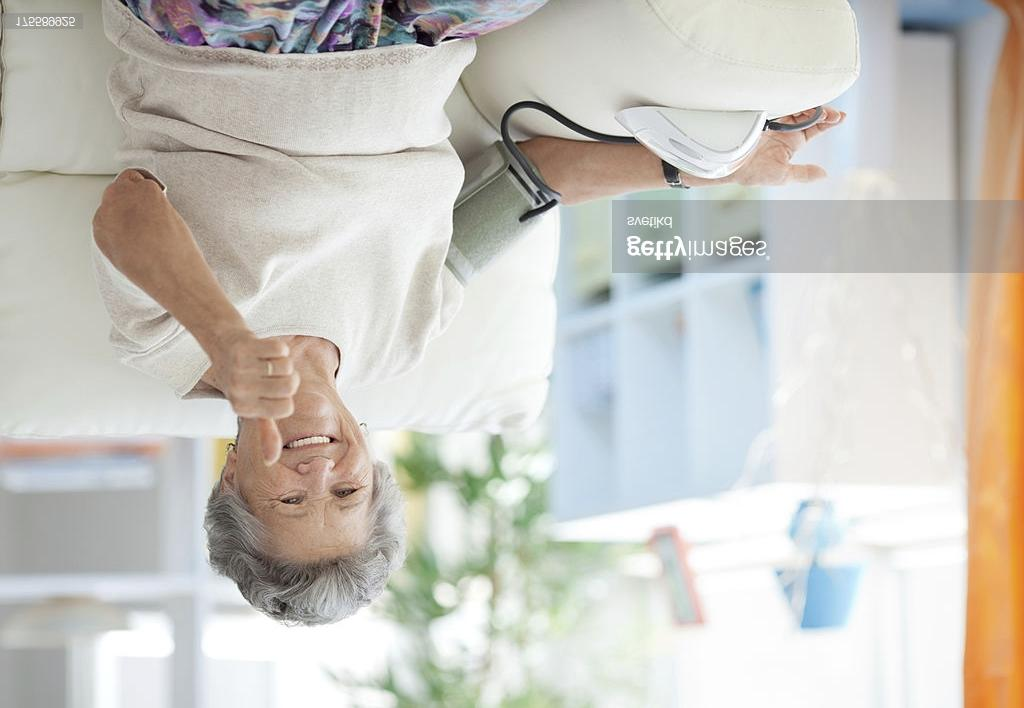thumbsdown: (226, 336, 301, 467)
